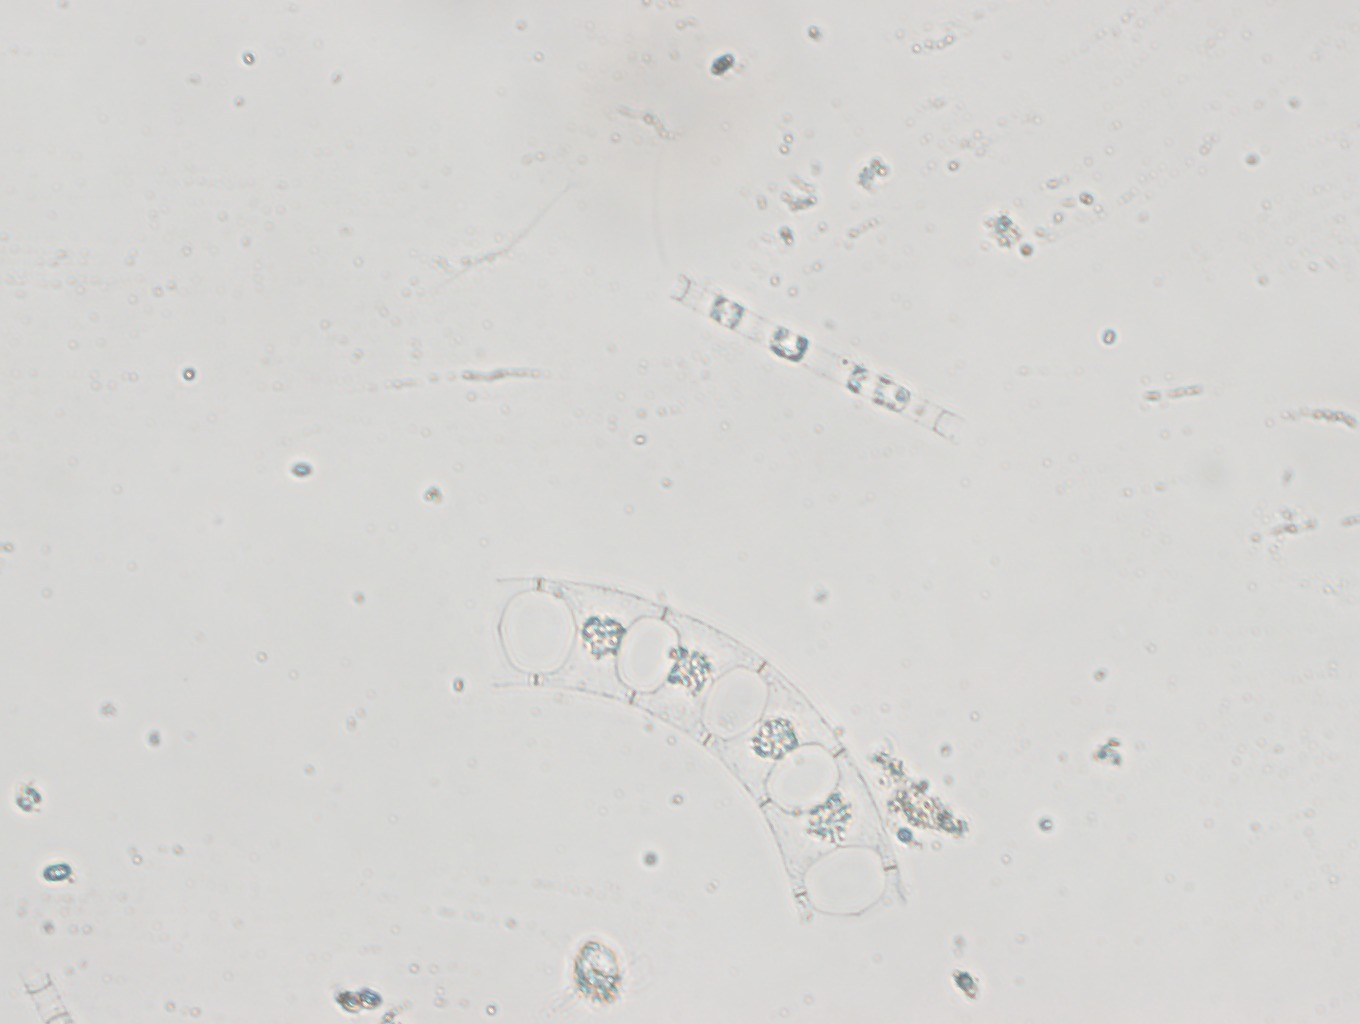eucampia: (466, 565, 915, 941)
skeletonema: (660, 255, 976, 455)
